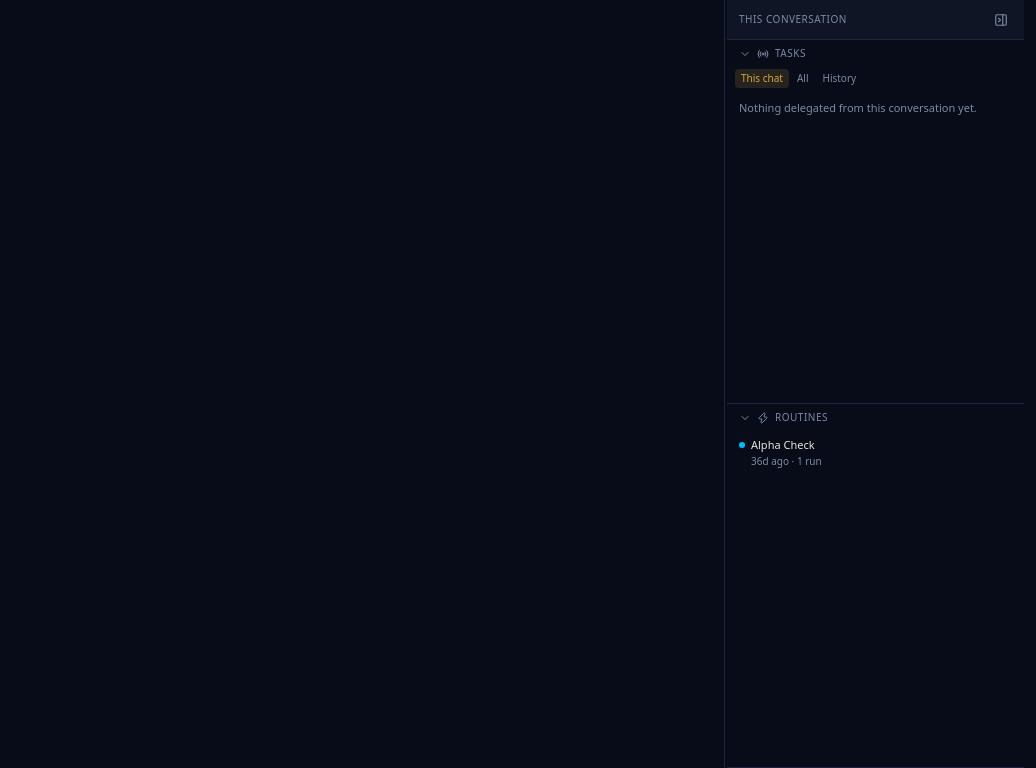
Test: the scope's default › is every routine in the unbound Condor conversation
Click the button "Alpha Check 36d ago · 1 run". click: click(783, 444)
box: [727,431,1024,474]
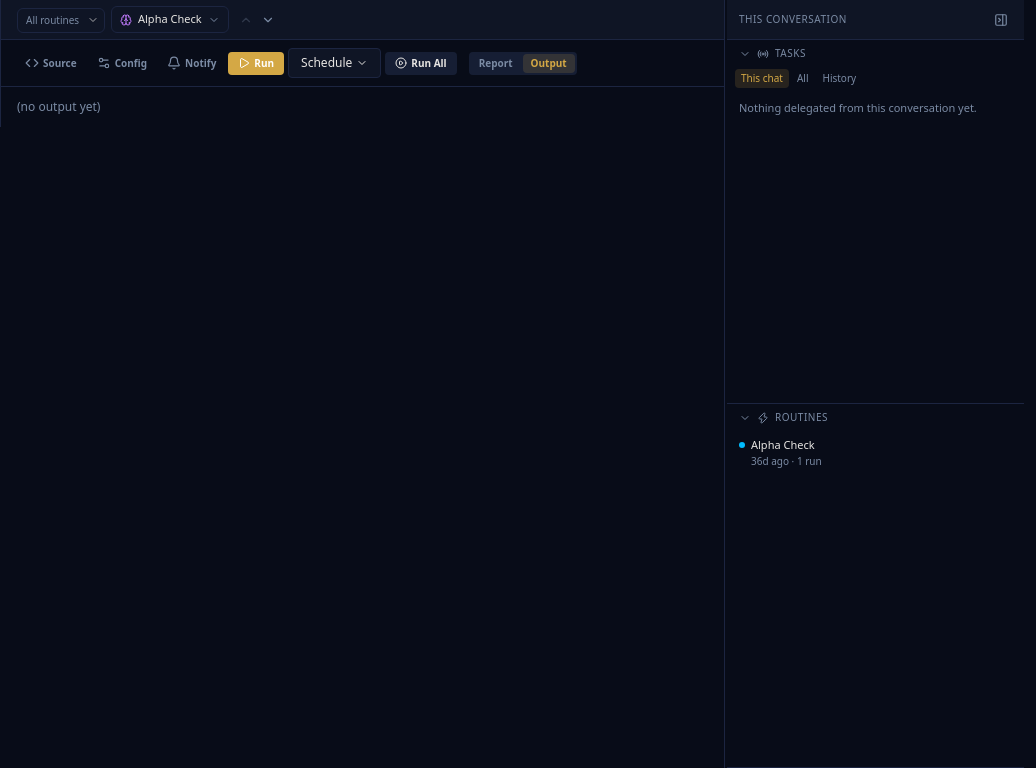
Check: the dropdown named "Routine scope" shows "All routines", box [17,8,105,33]
